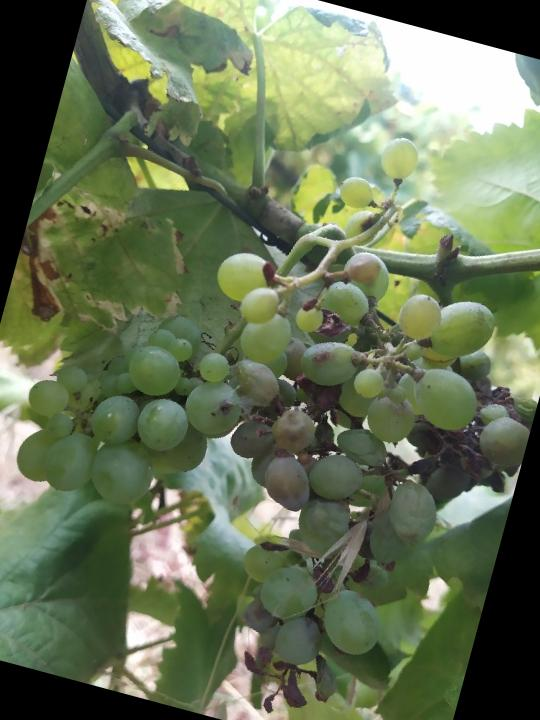grape: (107, 211, 540, 720)
